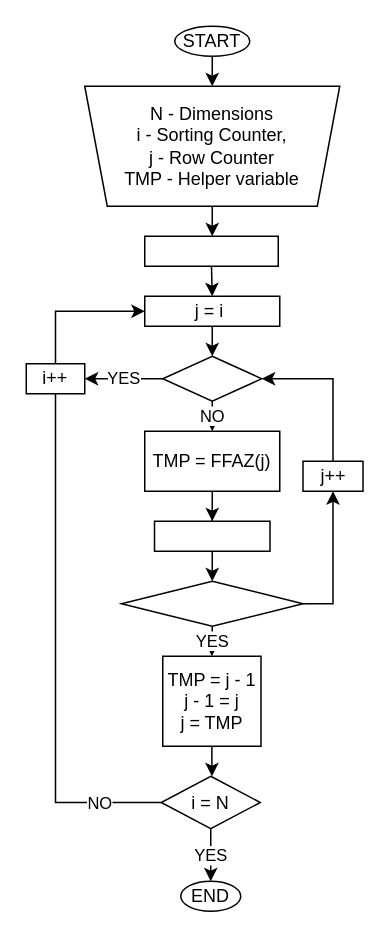
This 390x938 diagram has some shape labels left out. Here are the shapes that lost their labels. From the top down, the centre of each, then its label:
At point (210, 250): "i = 0".
At point (211, 378): "j = N".
At point (211, 535): "NEXT_ROW".
At point (211, 603): "FFAZ(j) < TMP".
